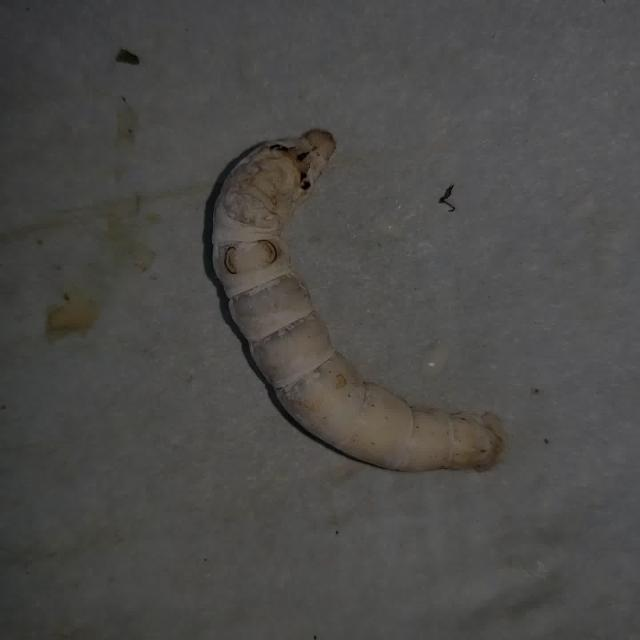Grasserie: (194, 83, 528, 495)
